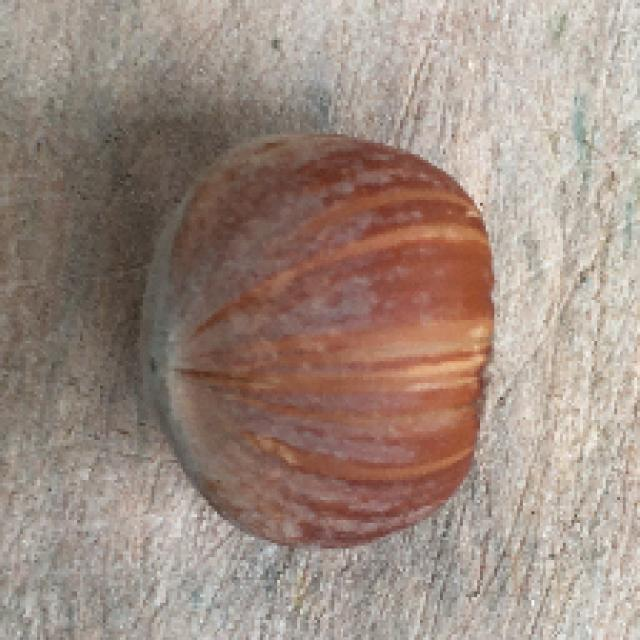qualityHazelnut: (128, 124, 505, 546)
